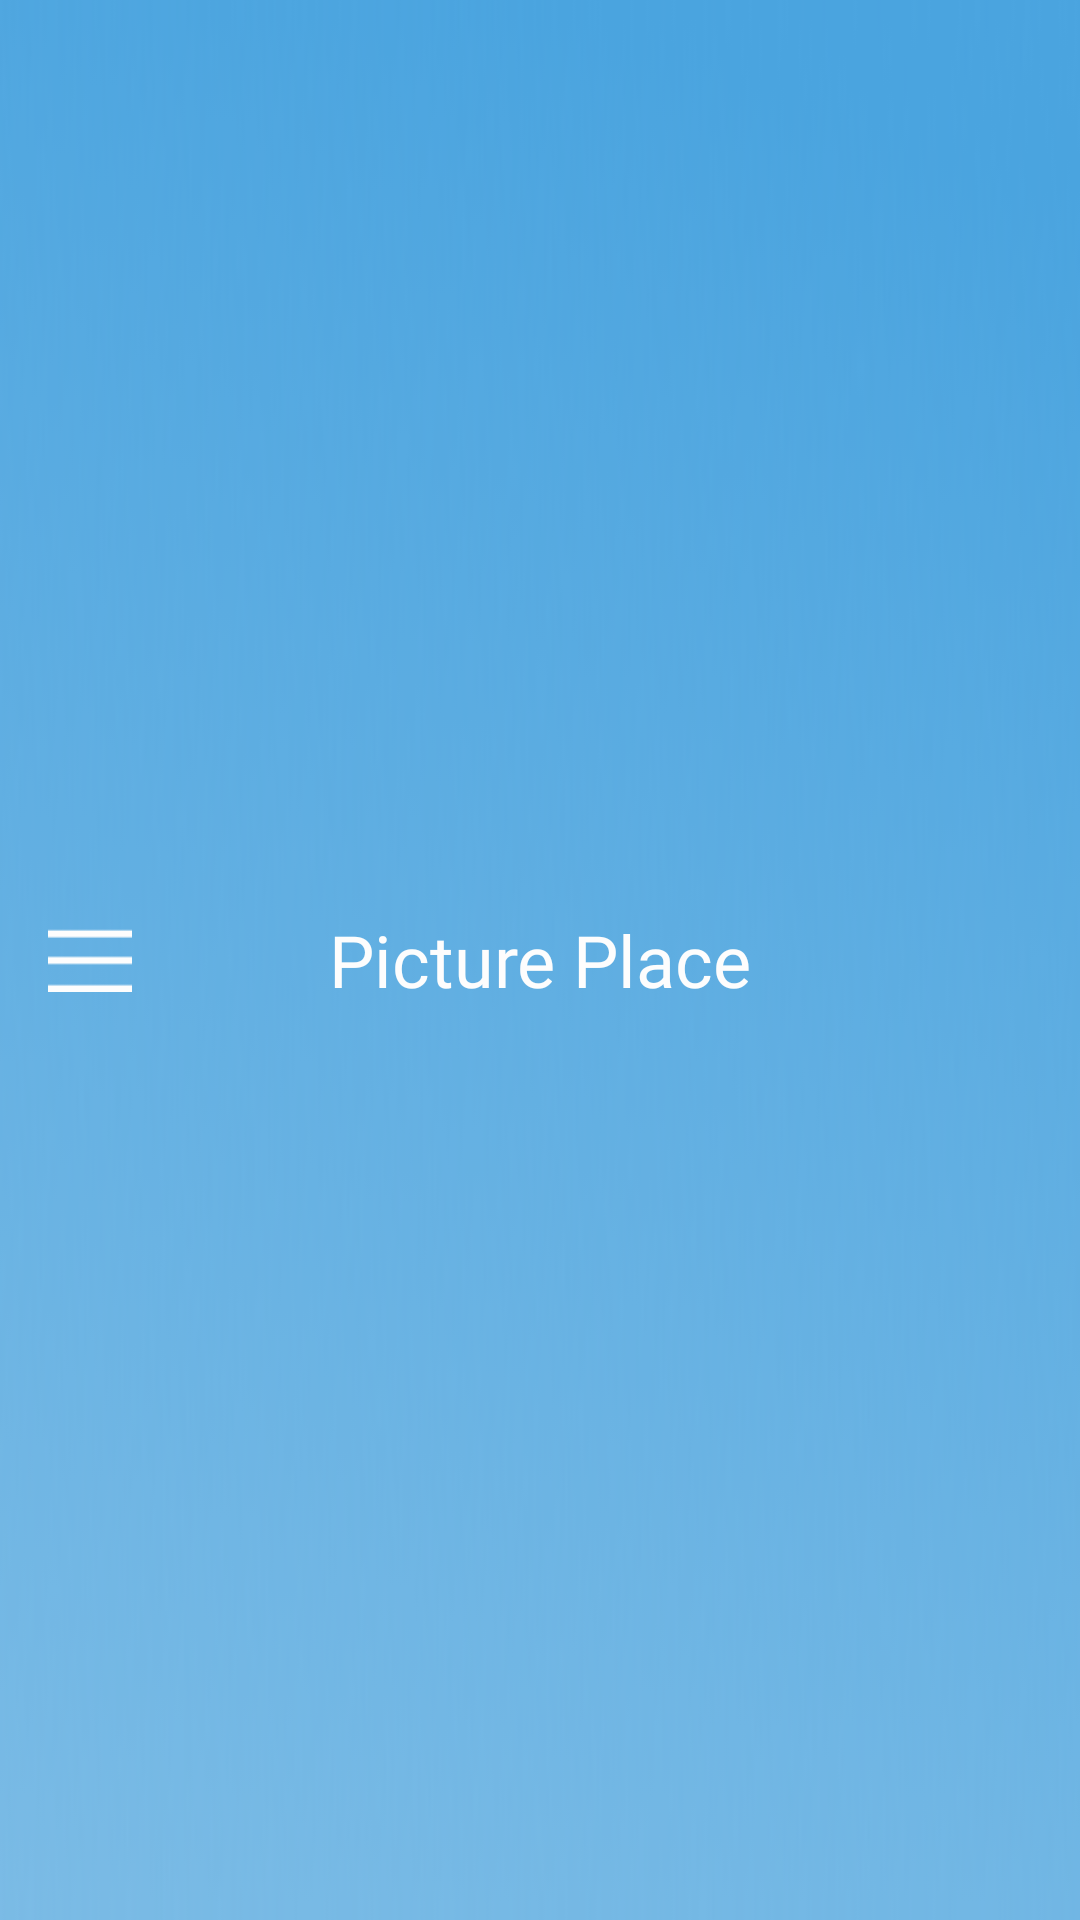

Icons on this 1080w x 1920h Android screen, each with the point to tap as (x,y):
toolbarmenu: (90,961)
